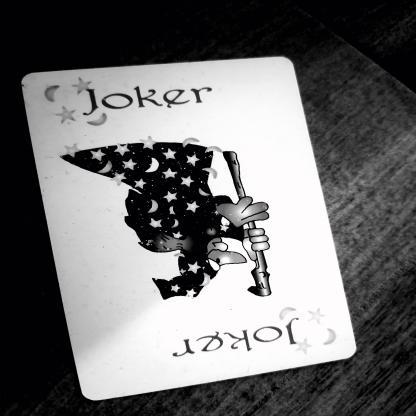BLACK JOKER: (33, 68, 232, 148), (134, 300, 344, 368)
